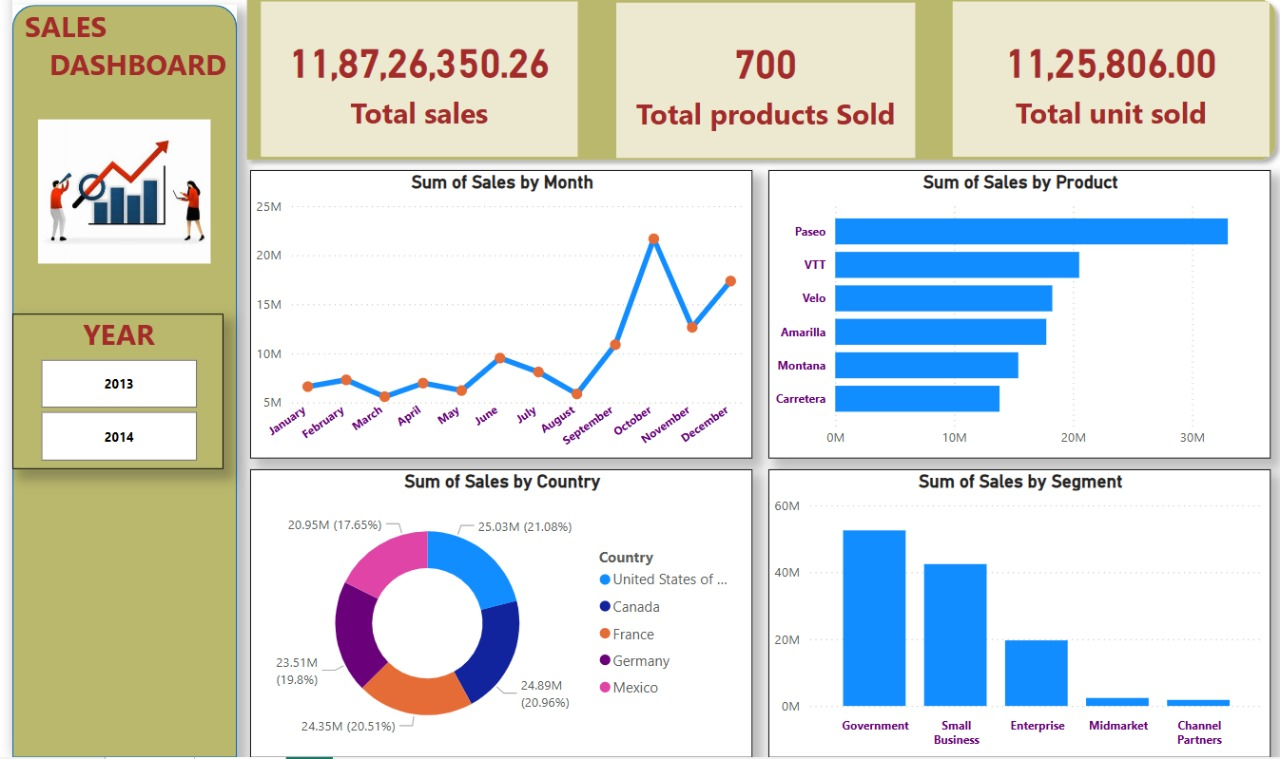

What the dashboard file says about the page in this screenshot:
{"tool":"powerbi","page":{"name":"Page 1","canvas":[1280,720],"ordinal":0},"visuals":[{"type":"shape","box":[0,14.5,210.4,705.8],"z":0},{"type":"textbox","box":[0,11.1,210.4,178.1],"z":1000},{"type":"shape","box":[210.3,0,981.9,168.8],"z":2000},{"type":"lineChart","fields":{"Category":["financials.Date.Variation.Date Hierarchy.Month"],"Y":["Sum(financials. Sales)"]},"box":[222.6,168.8,470.8,270.2],"z":3000},{"type":"clusteredBarChart","fields":{"Category":["financials.Product"],"Y":["Sum(financials. Sales)"]},"box":[708,168.8,470.8,270.2],"z":4000},{"type":"donutChart","fields":{"Category":["financials.Country"],"Y":["Sum(financials. Sales)"]},"box":[222.6,450,470.8,270.2],"z":5000},{"type":"clusteredColumnChart","fields":{"Category":["financials.Segment"],"Y":["Sum(financials. Sales)"]},"box":[708,450,470.8,270.2],"z":6000},{"type":"card","fields":{"Values":["Sheet1.total sales"]},"box":[232.3,11,297.1,145.5],"z":7000},{"type":"card","fields":{"Values":["Sheet1.Total products"]},"box":[564.9,12.2,280,145.5],"z":8000},{"type":"card","fields":{"Values":["Sheet1.Total unit sold"]},"box":[880.4,11,297,145.5],"z":9000},{"type":"slicer","title":"YEAR","fields":{"Values":["financials.Date.Variation.Date Hierarchy.Year"]},"box":[0,304,197.9,146],"z":10000},{"type":"image","box":[0,117,209.9,144.8],"z":11000}]}

Visuals, with their boxes on the page's 1280x720 design canvas (x1, y1, x2, y2). These are canvas units, not pixel positions in the 1280x759 screenshot, which may show the page scaled, cropped or inside an application window:
shape: Rect(0, 14, 210, 720)
textbox: Rect(0, 11, 210, 189)
shape: Rect(210, 0, 1192, 169)
lineChart - financials.Date.Variation.Date Hierarchy.Month x Sum(financials. Sales): Rect(223, 169, 693, 439)
clusteredBarChart - financials.Product x Sum(financials. Sales): Rect(708, 169, 1179, 439)
donutChart - financials.Country x Sum(financials. Sales): Rect(223, 450, 693, 720)
clusteredColumnChart - financials.Segment x Sum(financials. Sales): Rect(708, 450, 1179, 720)
card - Sheet1.total sales: Rect(232, 11, 529, 156)
card - Sheet1.Total products: Rect(565, 12, 845, 158)
card - Sheet1.Total unit sold: Rect(880, 11, 1177, 156)
"YEAR" slicer: Rect(0, 304, 198, 450)
image: Rect(0, 117, 210, 262)
